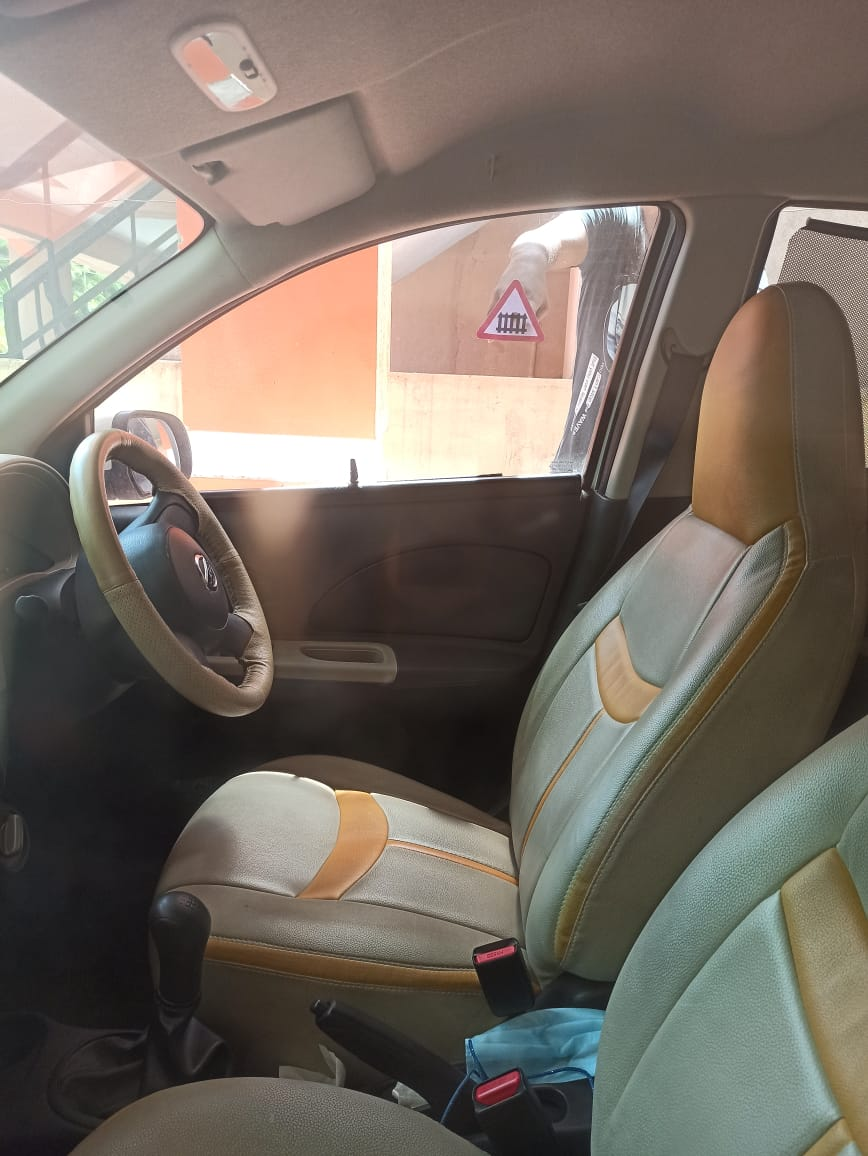GUARDED LEVEL CROSSING: (475, 283, 555, 351)
